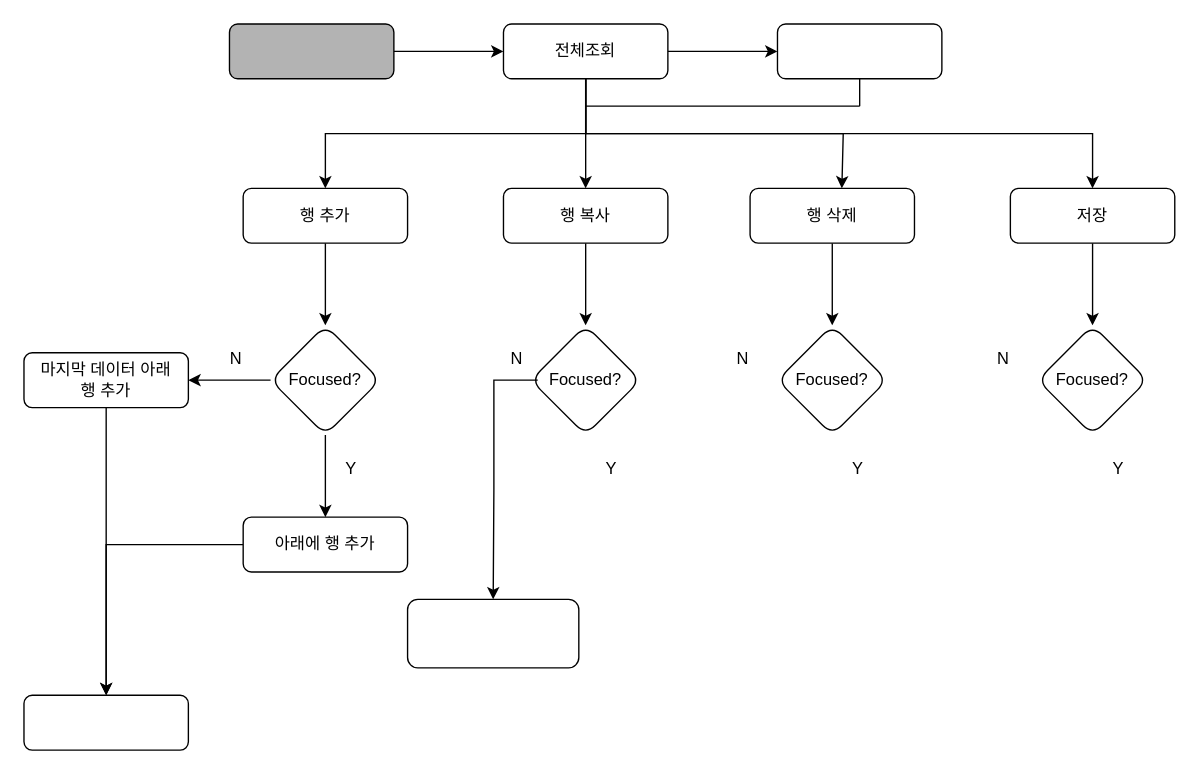
The diagram is 1199 pixels wide and 774 high, and some of its shapes have lost their labels. The centre of each missing label's shape, as x and y in pixels:
MSG "복사할 행 선택" OR 선택 안되게: the point at 492,633
Start: the point at 311,51
부분조회: the point at 859,51
새로운 사용자 상세, 역할 목록 띄우기: the point at 105,722
